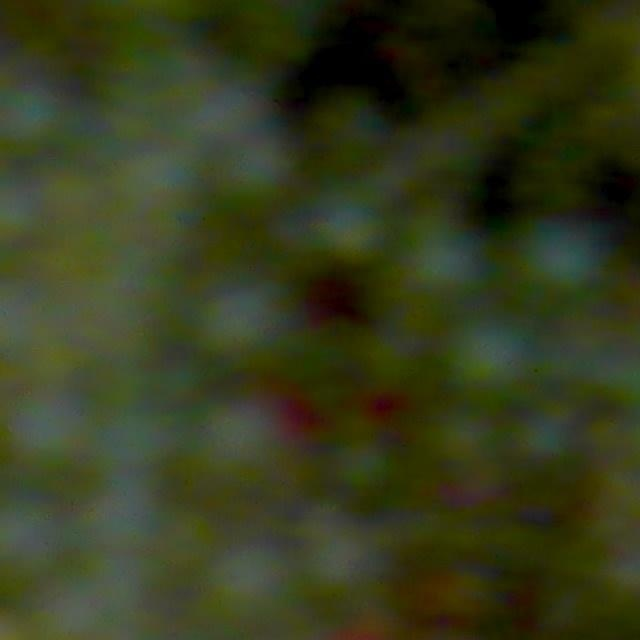SeaGrape: (195, 276, 293, 365), (195, 395, 289, 484), (446, 312, 537, 399), (399, 214, 487, 302), (518, 217, 607, 300), (209, 539, 294, 624), (82, 468, 165, 553), (5, 390, 88, 472), (300, 519, 386, 597), (308, 188, 389, 267), (0, 494, 65, 582), (218, 133, 294, 205), (429, 408, 504, 478), (327, 430, 398, 496), (511, 403, 578, 468)
